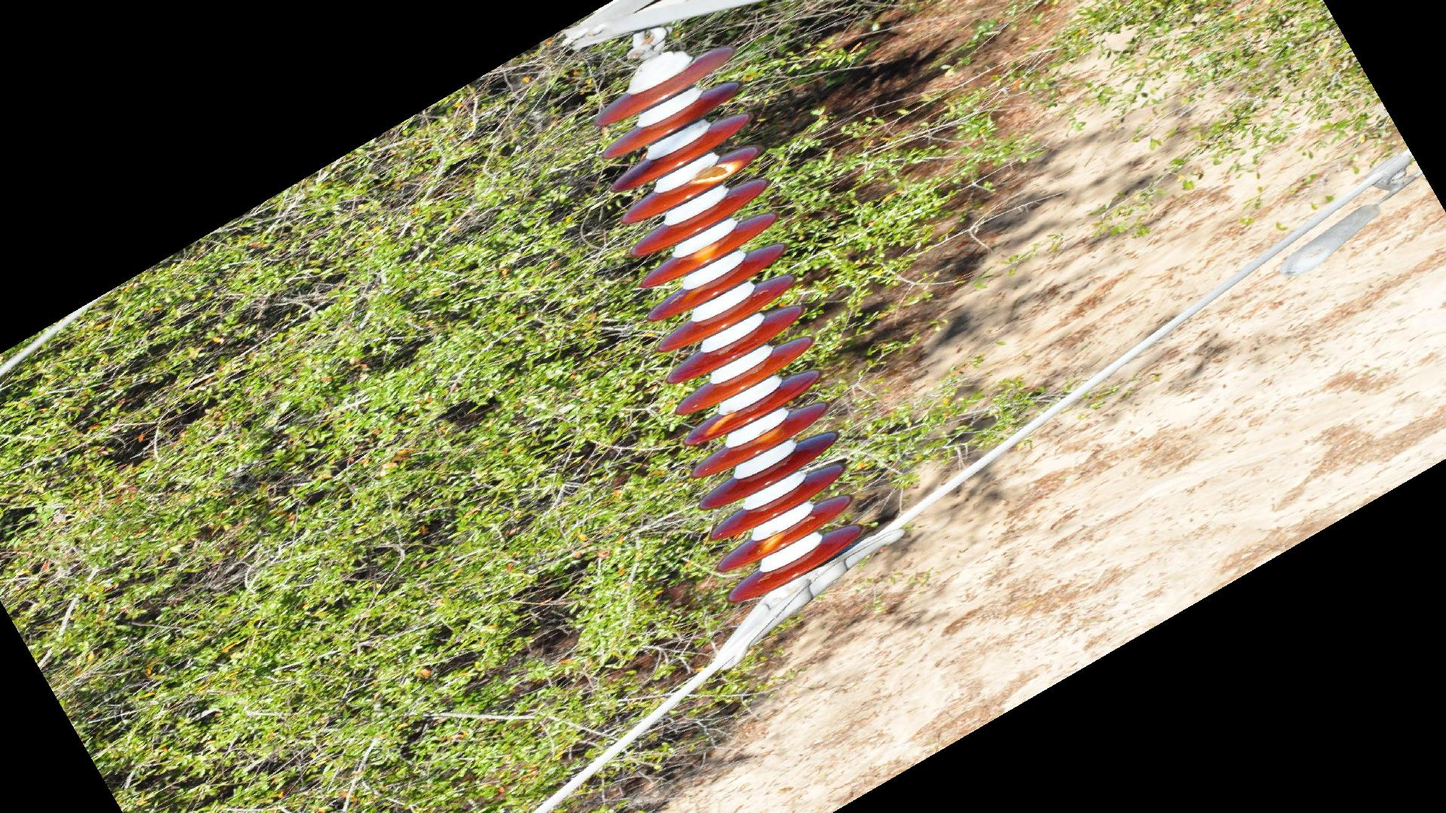insulator: (586, 40, 873, 610)
insulator_flashover: (691, 158, 744, 184), (697, 409, 740, 440), (752, 530, 788, 560), (687, 239, 719, 269)
